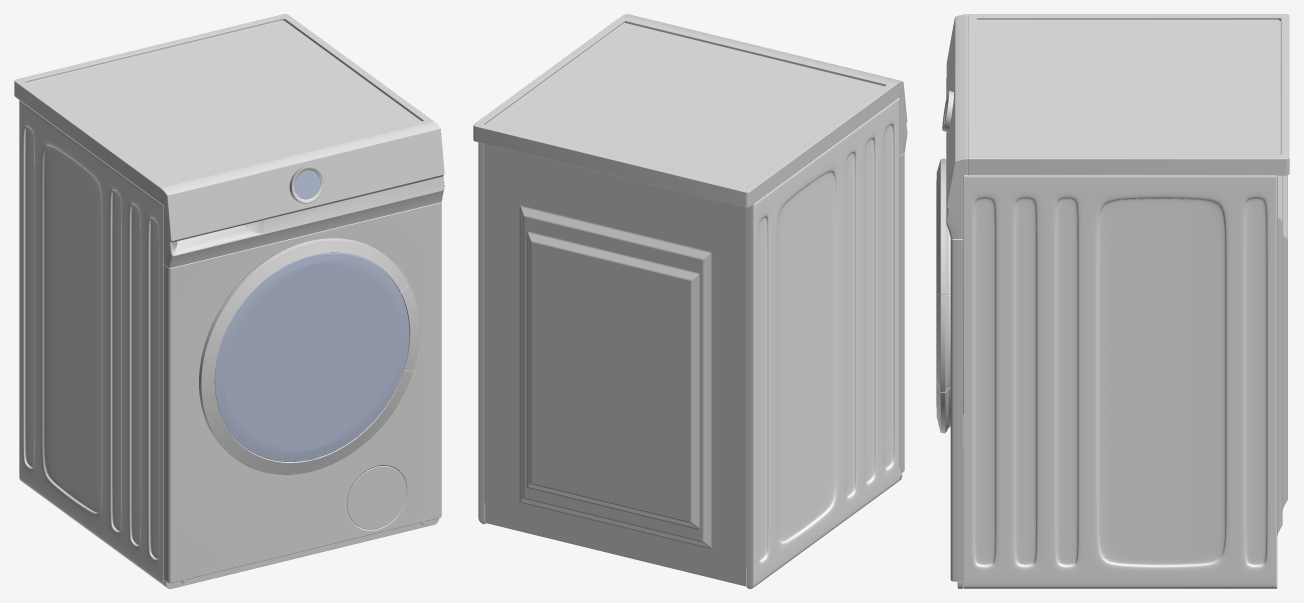
File: compressed_WashingMachine.glb
The picture shows the model from 3 angles, left to right: view 1: azimuth 30°, elevation 25°; view 2: azimuth 150°, elevation 25°; view 3: azimuth 270°, elevation 25°; orthographic projection. The views are drawn at different scales.
Visible parts, largest first — view 1: Sides, Front, Top, DoorWindow, FrontTop.002, Door, FrontTop.004, BottomPlastic, ControlRollerDisplay; view 2: BackCorpus, Sides, Top, Front, FrontTop.002; view 3: Sides, Top, Front, BackCorpus, Door, FrontTop.002, FrontTop.004.
Part boxes in pixels (left/top/right/bottom): Sides: left=19, top=100, right=168, bottom=586; Front: left=163, top=202, right=441, bottom=583; Top: left=14, top=14, right=434, bottom=203; DoorWindow: left=214, top=253, right=409, bottom=461; FrontTop.002: left=161, top=122, right=444, bottom=267; Door: left=199, top=238, right=419, bottom=474; FrontTop.004: left=166, top=171, right=263, bottom=242; BottomPlastic: left=164, top=518, right=439, bottom=588; ControlRollerDisplay: left=294, top=170, right=320, bottom=199; BackCorpus: left=485, top=144, right=746, bottom=586; Sides: left=478, top=97, right=899, bottom=588; Top: left=473, top=16, right=897, bottom=207; Front: left=899, top=153, right=904, bottom=473; FrontTop.002: left=622, top=14, right=907, bottom=155; Sides: left=963, top=175, right=1277, bottom=588; Top: left=968, top=14, right=1289, bottom=175; Front: left=950, top=176, right=963, bottom=581; BackCorpus: left=963, top=175, right=1287, bottom=585; Door: left=936, top=158, right=950, bottom=433; FrontTop.002: left=946, top=14, right=967, bottom=238; FrontTop.004: left=946, top=16, right=957, bottom=95.
Bounding box in the file's own units: 0.5505 × 0.7652 × 0.5672.
